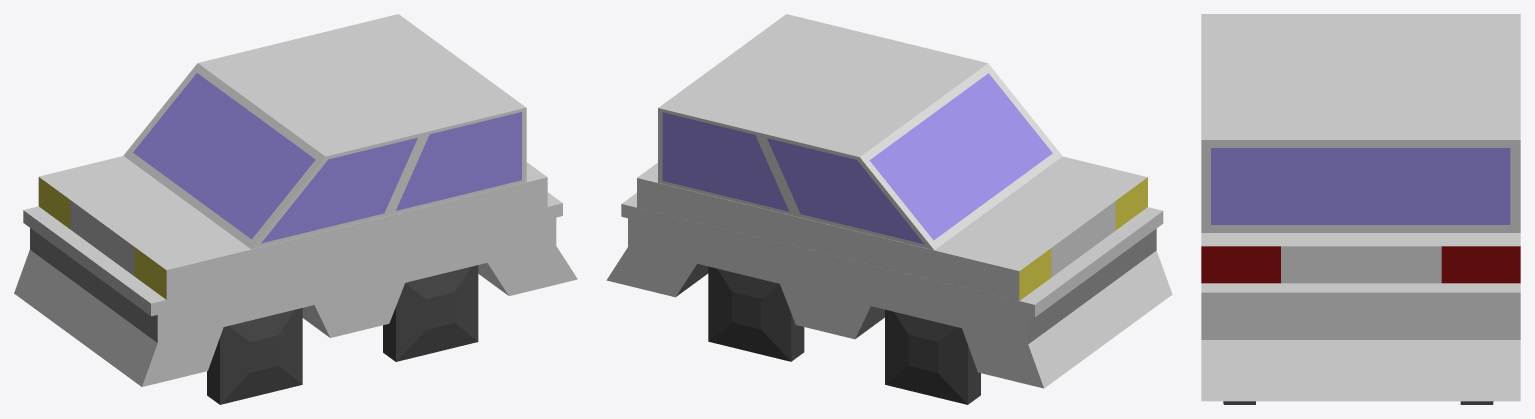
Rendered from car_white.glb.
The picture shows the model from 3 angles, left to right: view 1: azimuth 30°, elevation 25°; view 2: azimuth 150°, elevation 25°; view 3: azimuth 270°, elevation 25°; orthographic projection. The views are drawn at different scales.
Parts seen in each view (by area): view 1: Top, Chassis, Doors, Middle, Tire1.003, Tire1.001; view 2: Top, Chassis, Doors, Middle, Tire1.002, Tire1; view 3: Top, Chassis, Doors, Middle.
Part boxes in pixels (x1=…): Top: x1=123, y1=14, x2=526, y2=249; Chassis: x1=14, y1=217, x2=577, y2=386; Doors: x1=38, y1=156, x2=547, y2=299; Middle: x1=23, y1=192, x2=562, y2=316; Tire1.003: x1=207, y1=308, x2=302, y2=404; Tire1.001: x1=383, y1=265, x2=478, y2=361; Top: x1=658, y1=14, x2=1062, y2=250; Chassis: x1=606, y1=218, x2=1172, y2=388; Doors: x1=637, y1=156, x2=1147, y2=300; Middle: x1=621, y1=193, x2=1163, y2=317; Tire1.002: x1=885, y1=309, x2=980, y2=404; Tire1: x1=708, y1=266, x2=804, y2=361; Top: x1=1201, y1=17, x2=1520, y2=232; Chassis: x1=1201, y1=308, x2=1520, y2=401; Doors: x1=1201, y1=14, x2=1520, y2=283; Middle: x1=1201, y1=283, x2=1520, y2=308.
Size of the model in its own units: 10.57 by 5.36 by 5.37.
